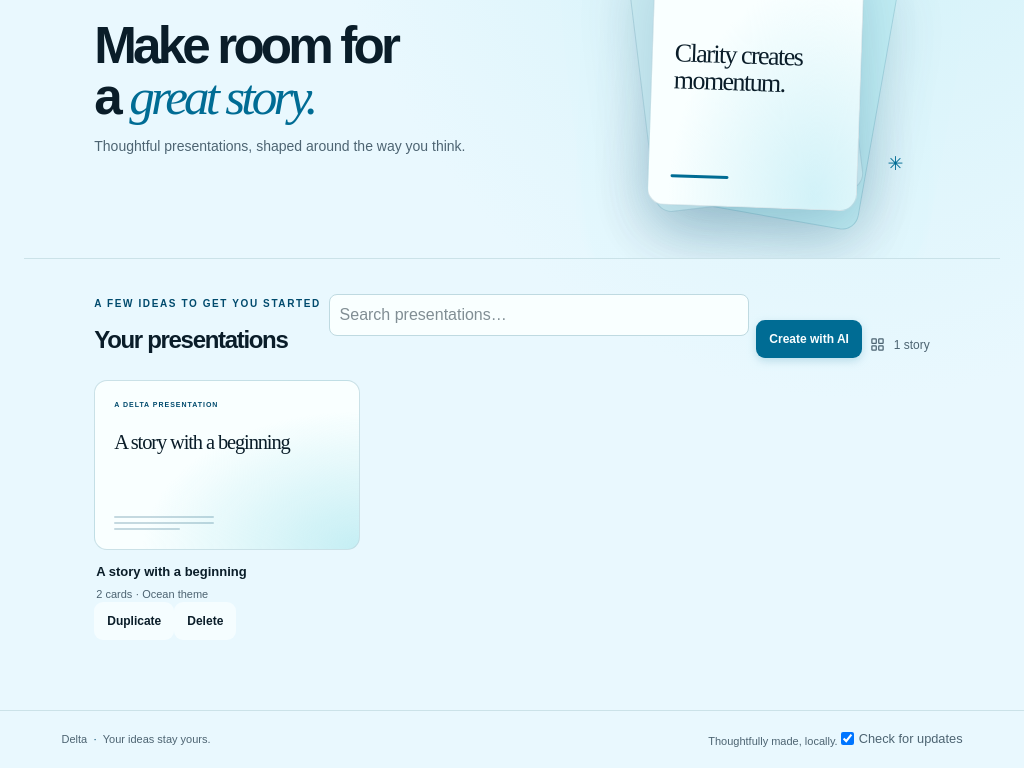
Test: presentation library › renders block types, saves themes, and navigates with arrow keys
(page scrolled)
Click the button "A story with a beginning".
click(227, 510)  # box left=94, top=380, right=360, bottom=640
(page scrolled)
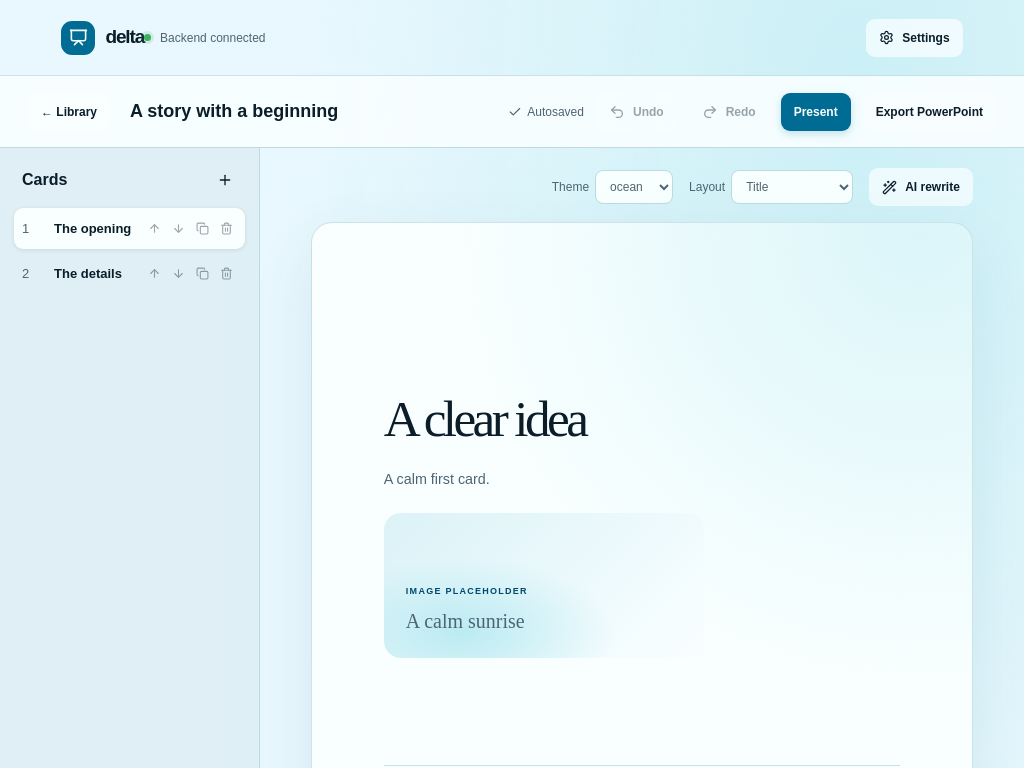
Now the text "A calm first card." is shown, box left=384, top=467, right=490, bottom=492
Select "forest" in the dropdown named "Presentation theme" at (634, 187), box left=595, top=170, right=673, bottom=204
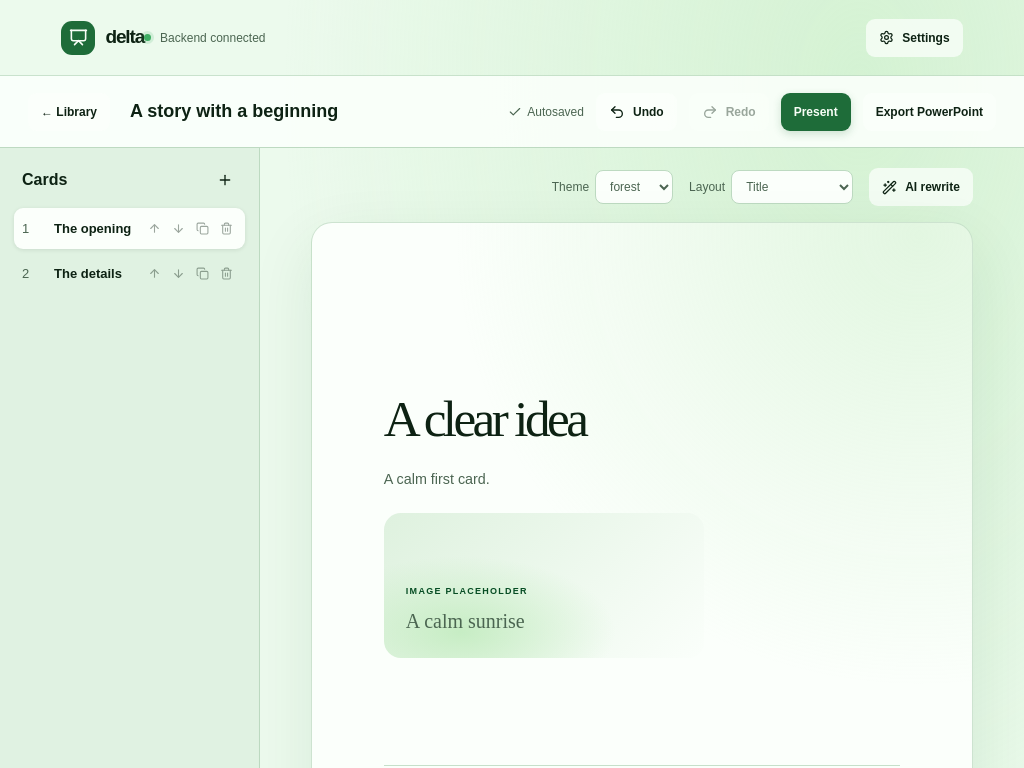
Click the button "Present".
click(816, 112)  # box left=781, top=92, right=851, bottom=130
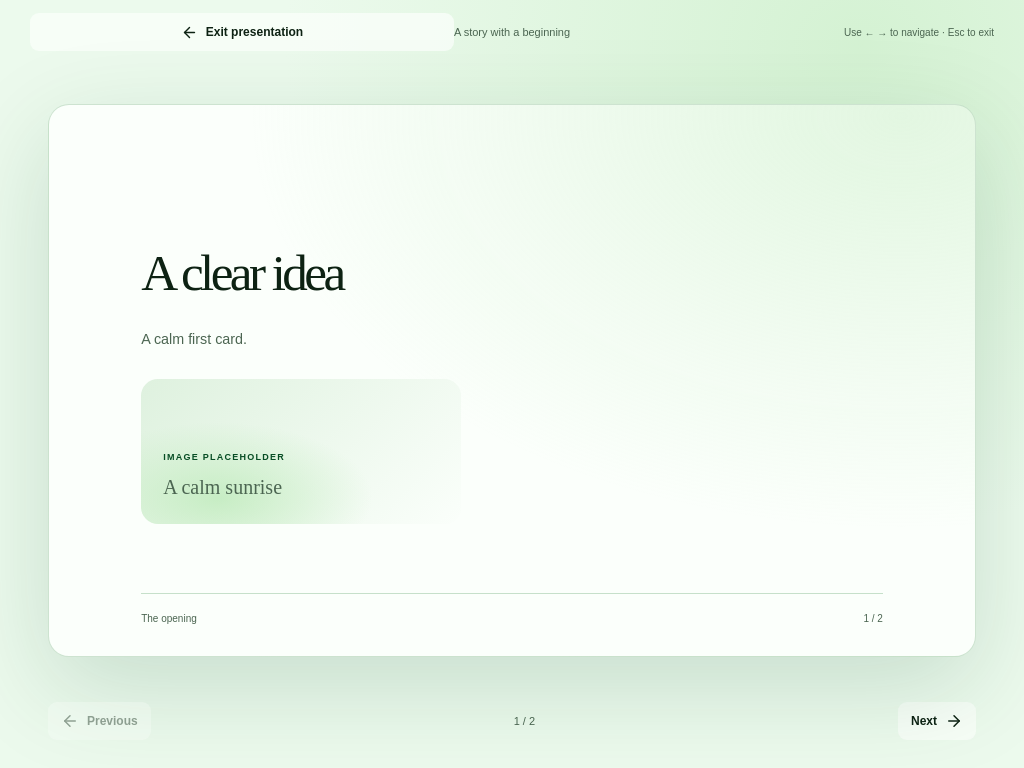
Now the text "A calm sunrise" is shown, box left=163, top=476, right=282, bottom=498
Now the text "Use ← → to navigate · Esc to exit" is shown, box left=844, top=24, right=994, bottom=40
Press ArrowRight
(page scrolled)
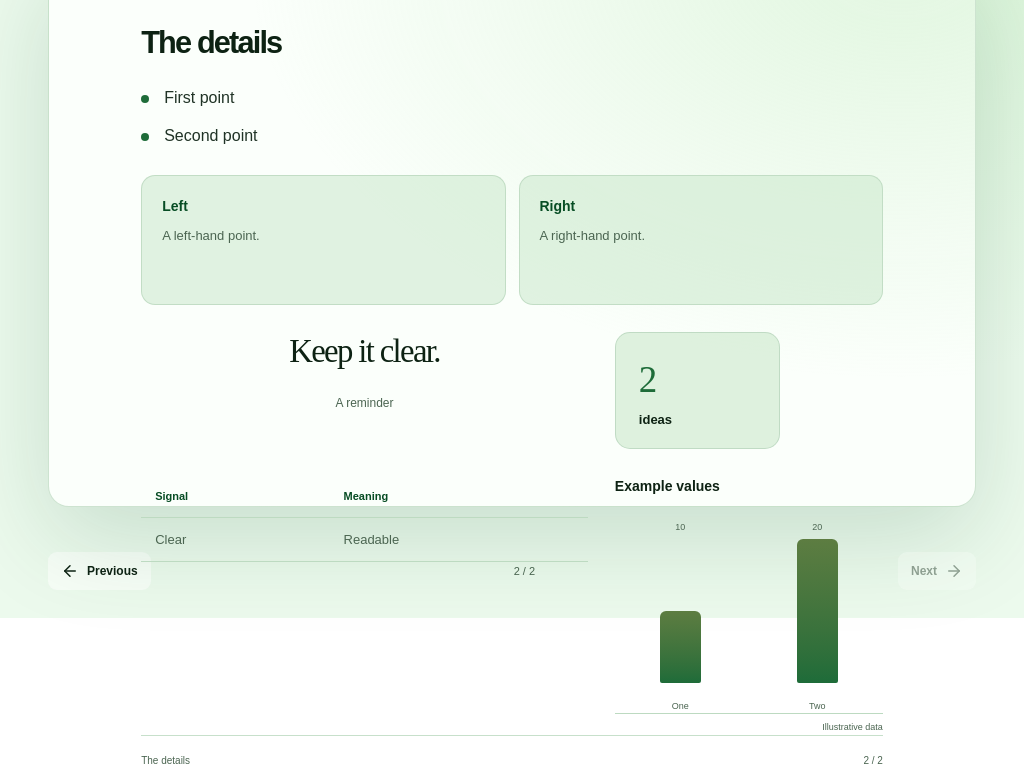
Now the text "Keep it clear." is shown, box left=289, top=332, right=440, bottom=372
Now the list item "First point" is shown, box left=164, top=89, right=234, bottom=106
Now the text "ideas" is shown, box left=639, top=412, right=672, bottom=427
